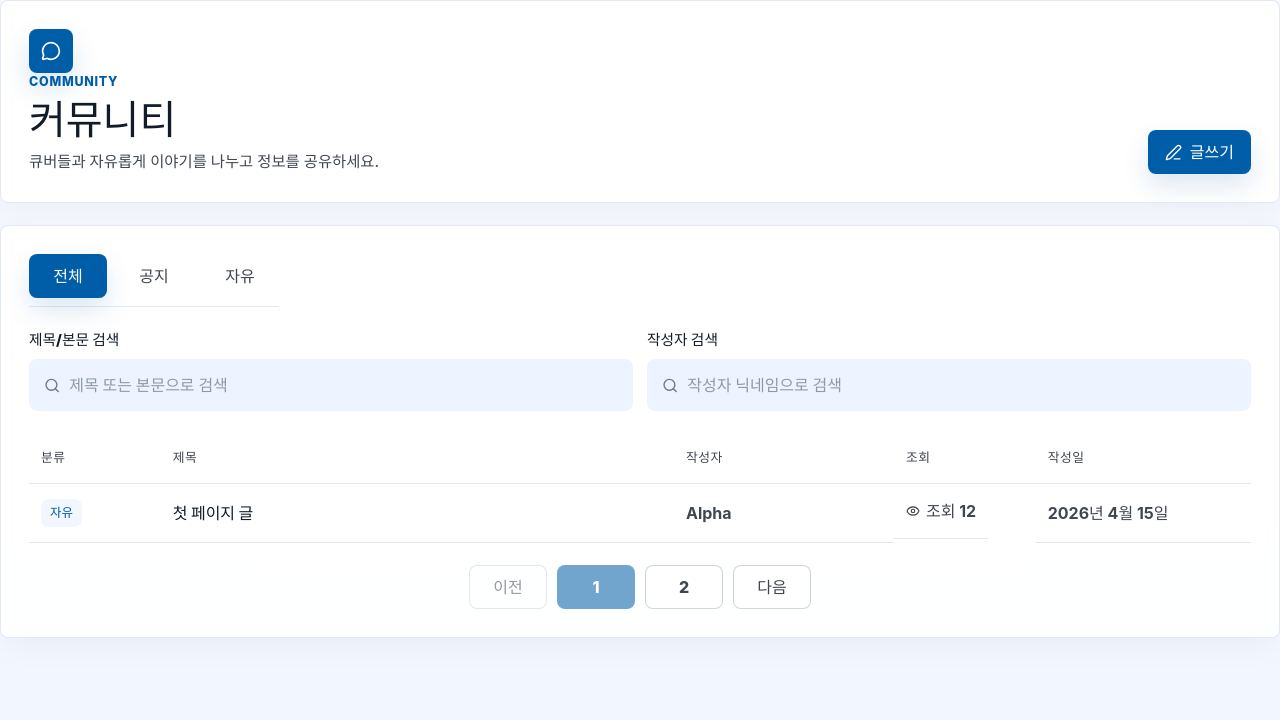
CommunityPage › should_normalize_page_when_loaded_page_exceeds_total_pages
Check: the text "첫 페이지 글" is shown, box [161,483,674,543]
Click the button "다음": (772, 587) [733,565,811,609]
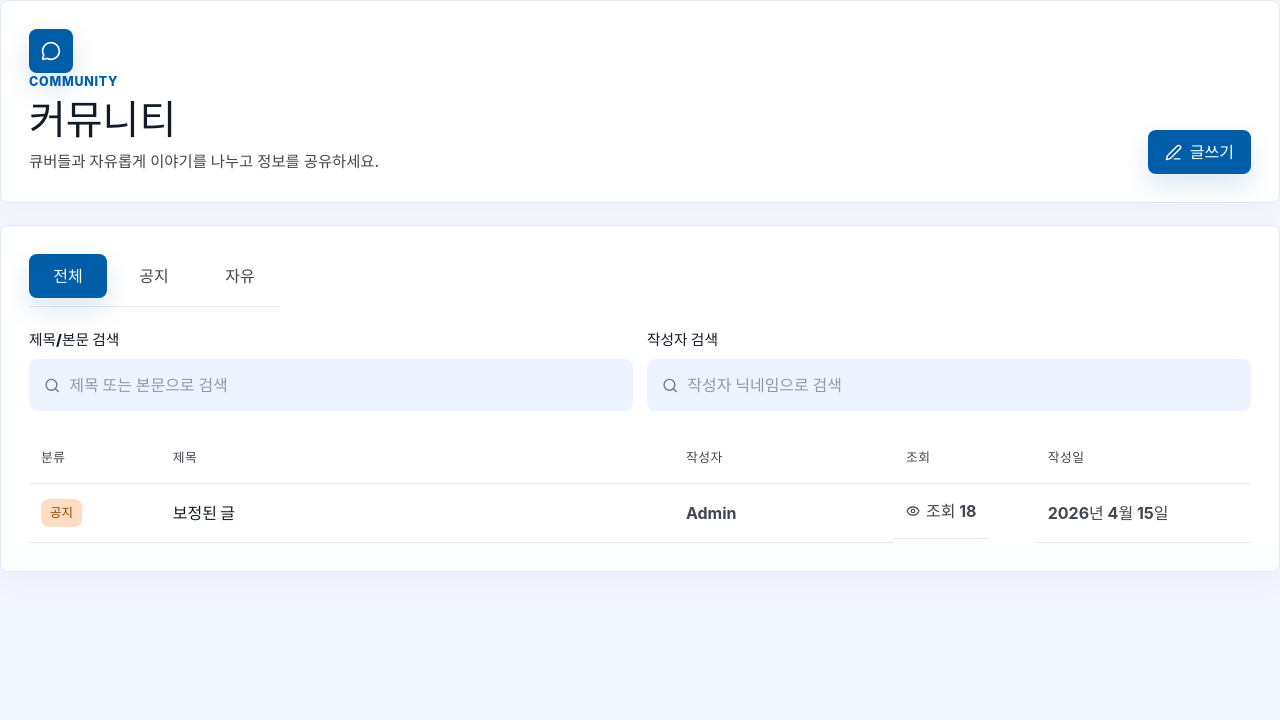
Check: the text "보정된 글" is shown, box [161,483,674,543]
